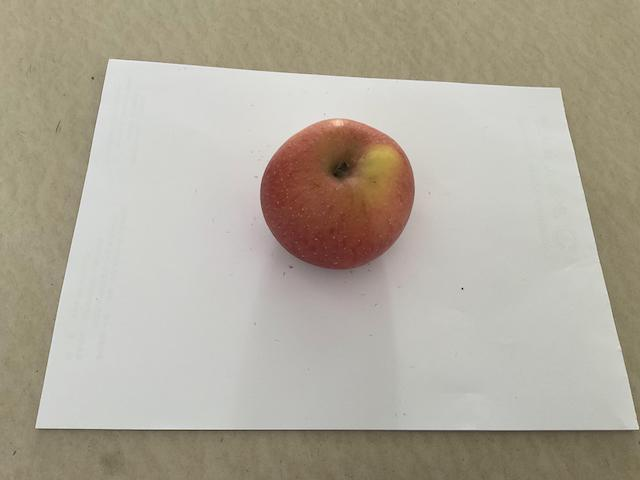apple: (253, 107, 420, 275)
